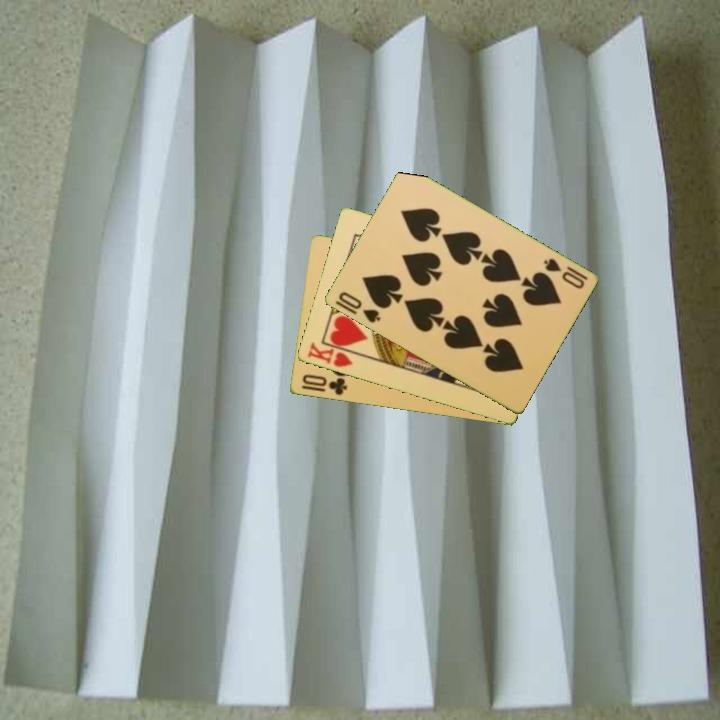10c: (299, 371, 350, 398)
10s: (540, 255, 591, 292), (335, 288, 383, 326)
Kh: (304, 338, 361, 370)
